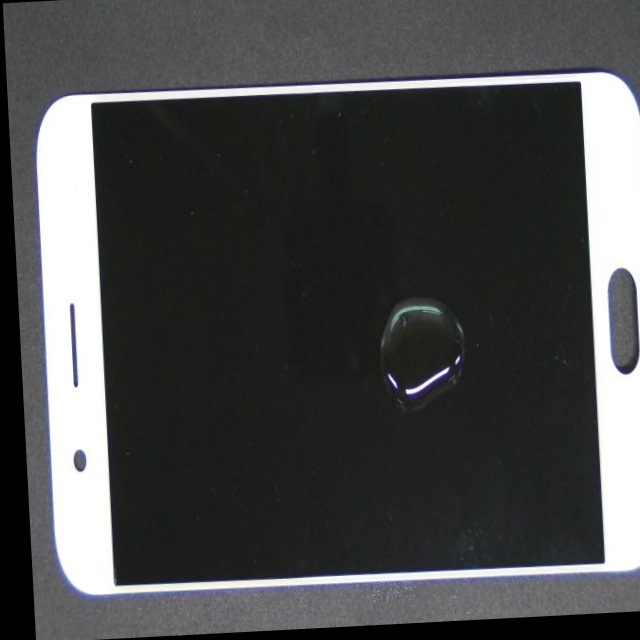oil: (239, 181, 640, 553)
